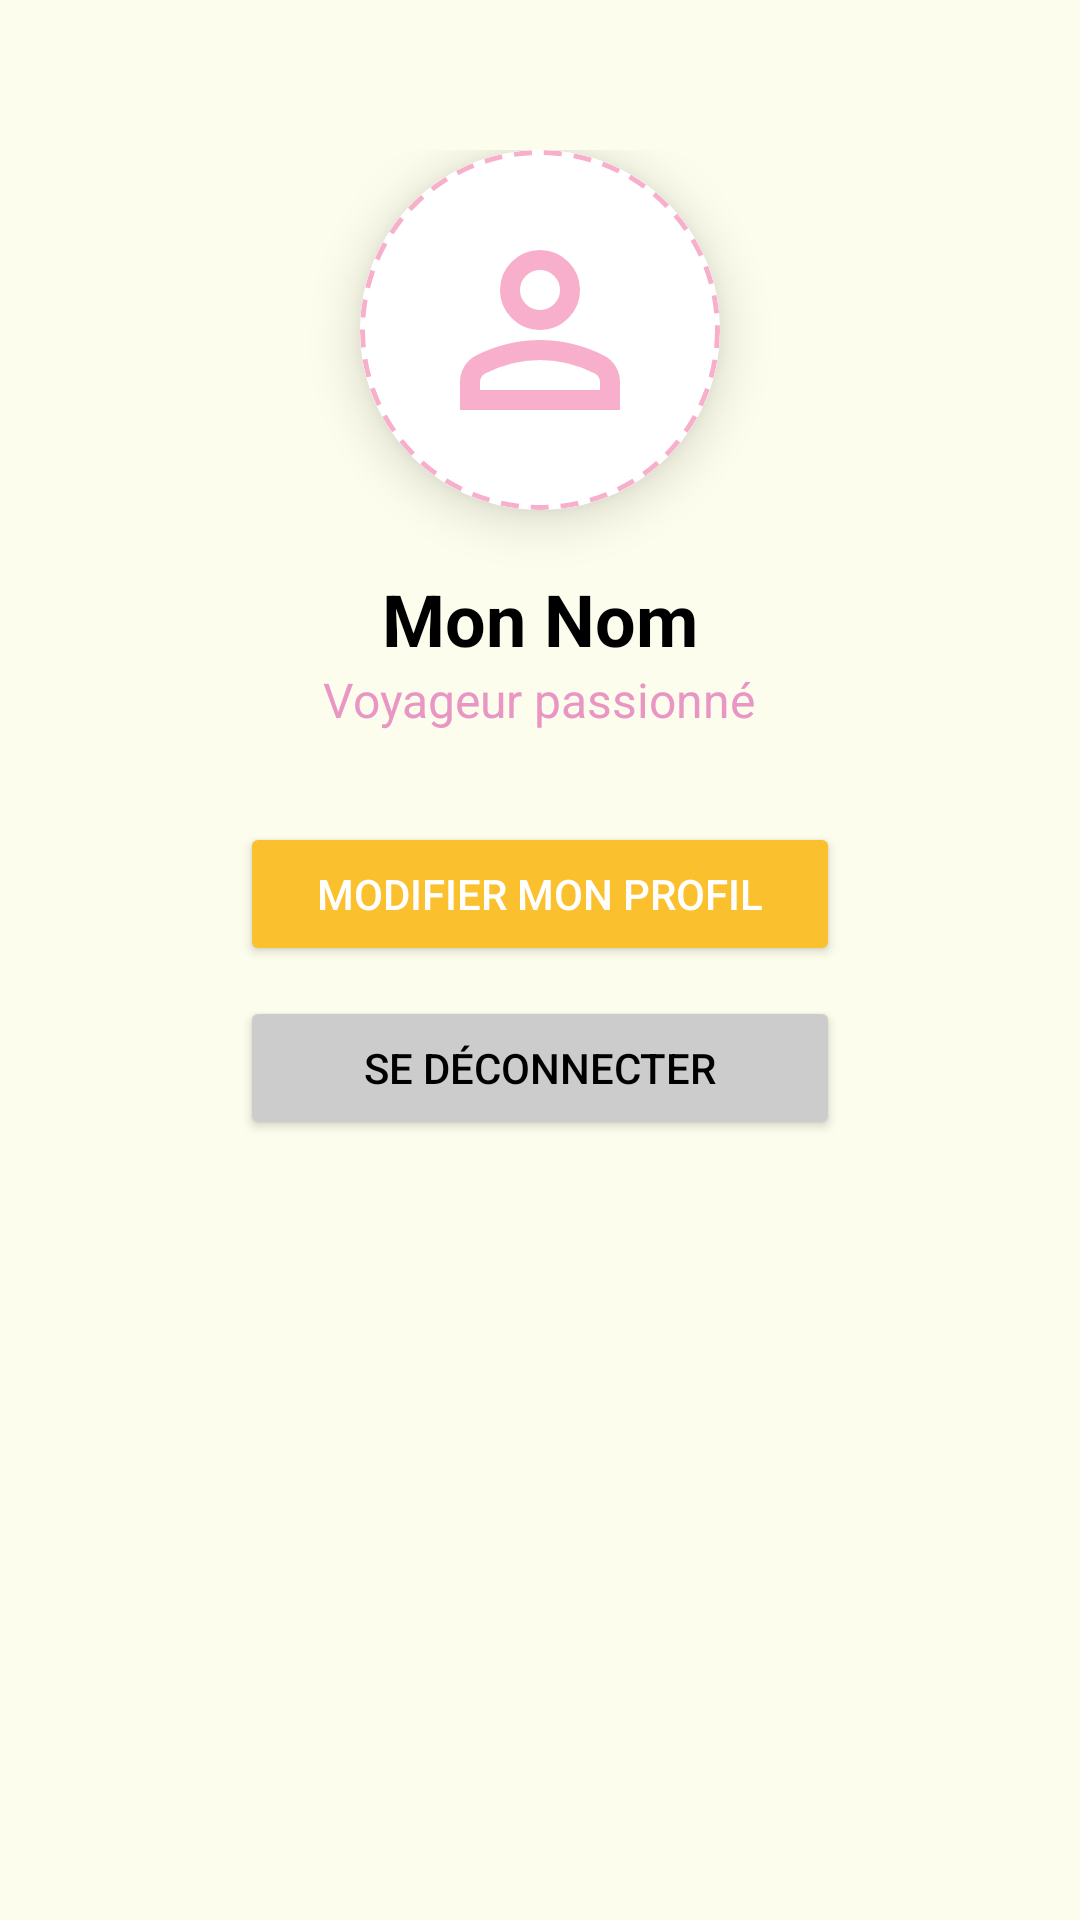

Locate icon controls on the screen. Image size 1080*1920, boxes as bbox(x1, y1, x2, y2).
person: bbox(360, 150, 720, 510)
